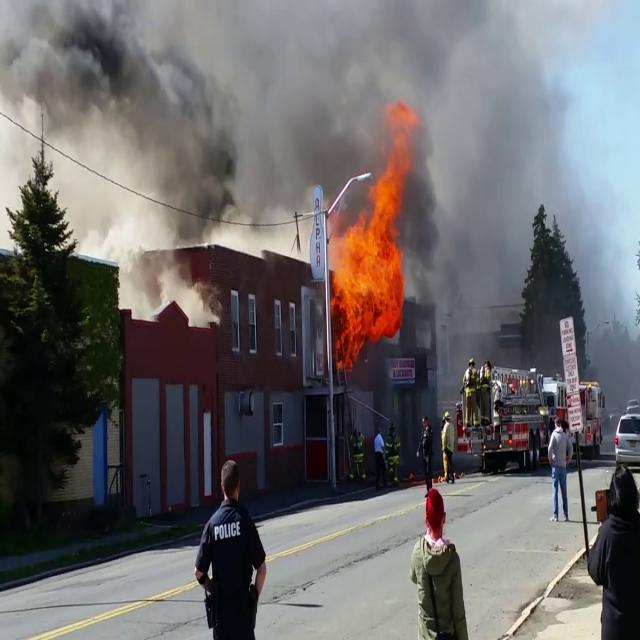Fire: (328, 111, 420, 349)
Smoke: (413, 0, 637, 380)
